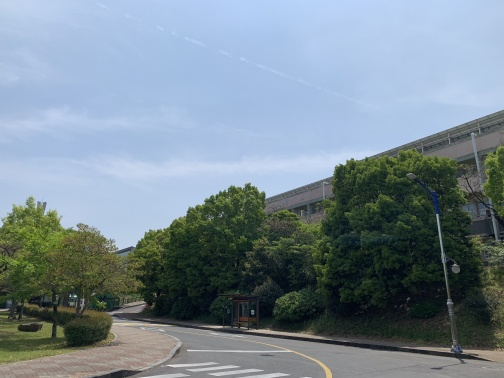College Of Education: (243, 107, 504, 256)
